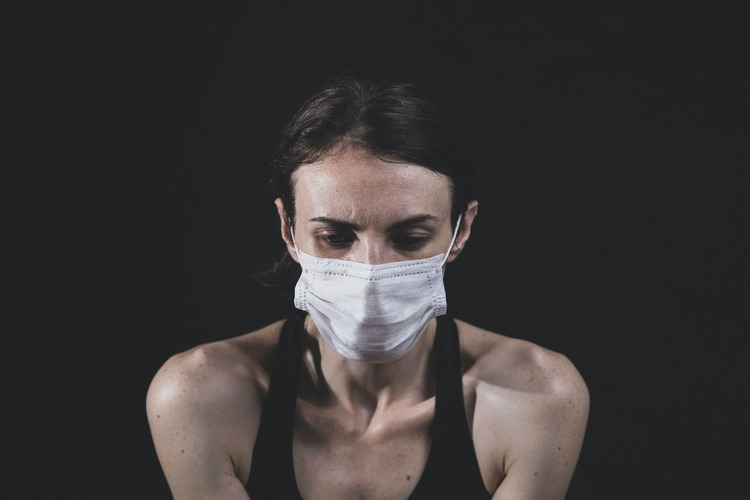with_mask: (292, 150, 451, 351)
